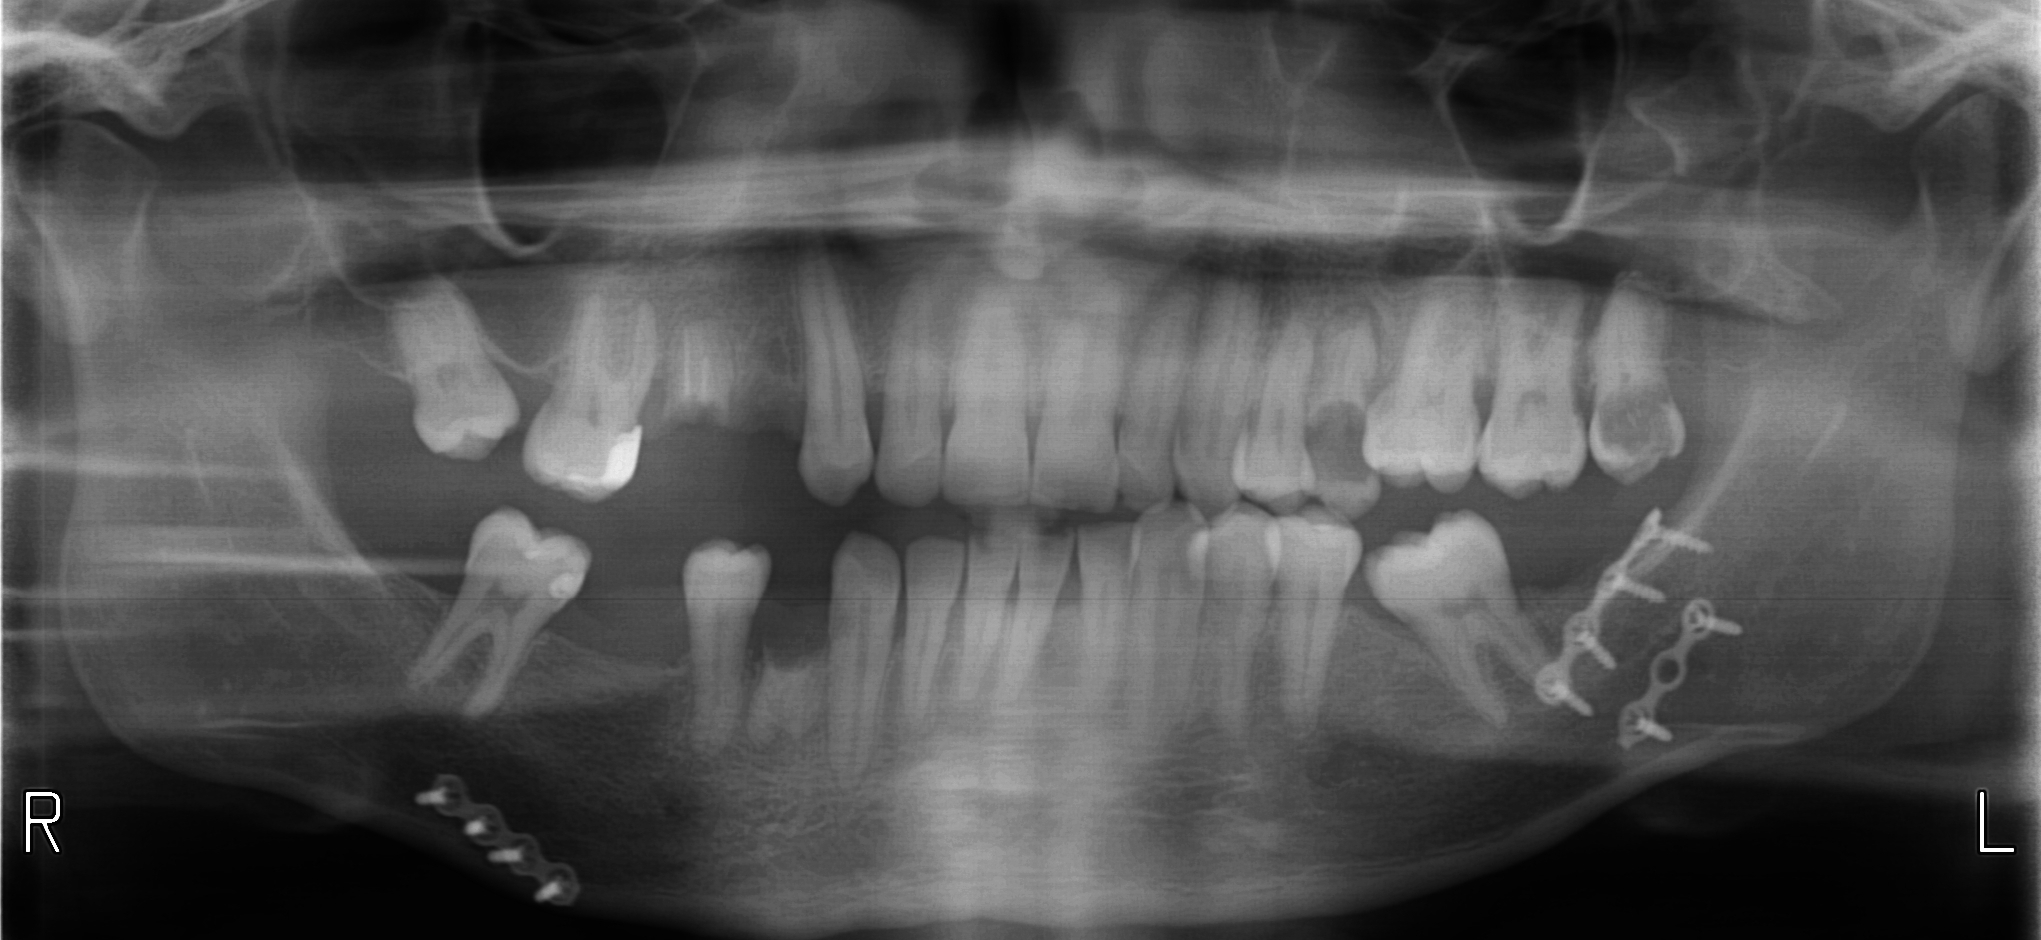cavity: (1304, 404, 1363, 474), (1604, 388, 1666, 449), (830, 613, 847, 647)
